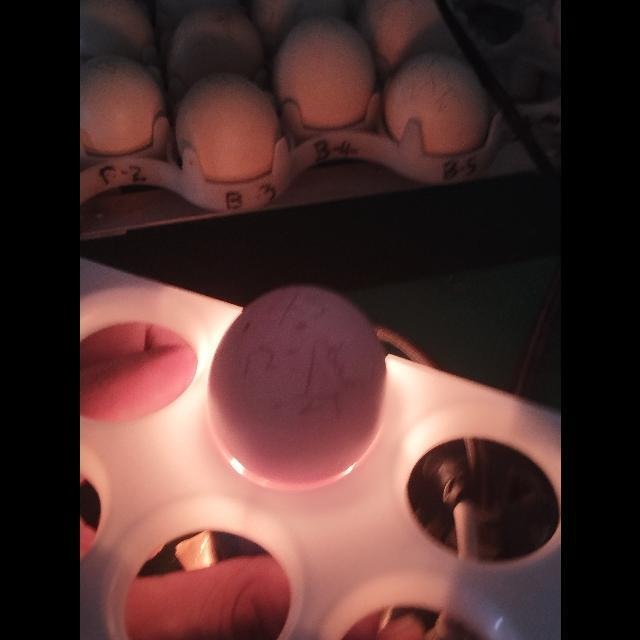A - Good: (202, 277, 398, 502)
